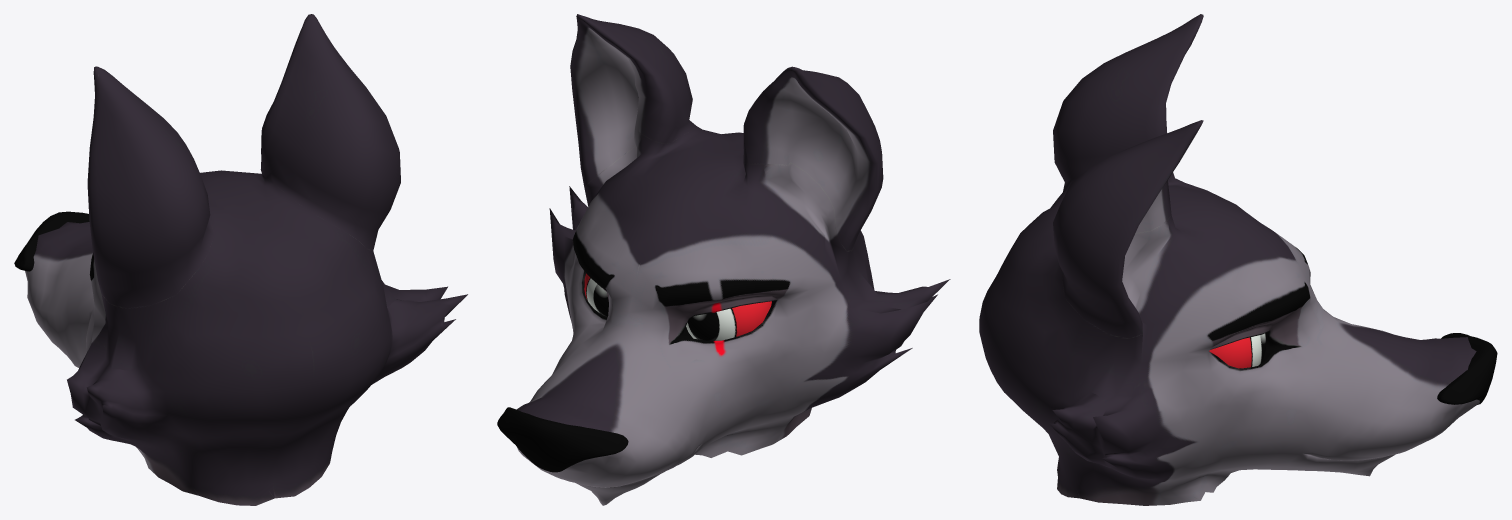
The model's file is vortex.glb.
The picture shows the model from 3 angles, left to right: view 1: azimuth 30°, elevation 25°; view 2: azimuth 150°, elevation 25°; view 3: azimuth 270°, elevation 25°; orthographic projection.
Visible parts, largest first — view 1: headm; view 2: headm; view 3: headm.
Boxes of the visible parts, <box> form: headm: <box>14,14,467,505</box>; headm: <box>497,14,950,505</box>; headm: <box>979,14,1497,505</box>.
Size of the model in its own units: 1.91 by 1.95 by 2.22.
Materials: 5 (5 with a texture image).
